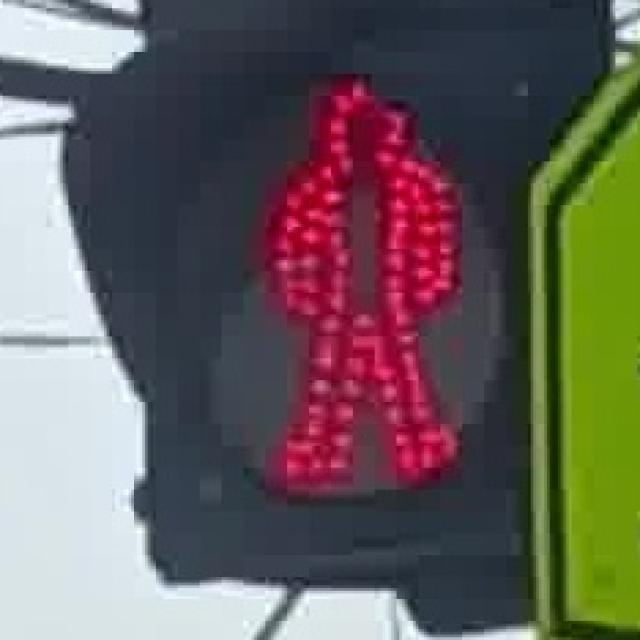red-crossing: (238, 52, 465, 490)
